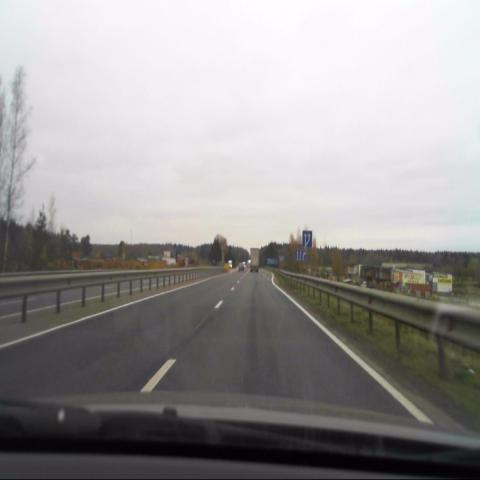5_15_1: (293, 250, 307, 262)
5_15_3: (301, 231, 311, 245)
